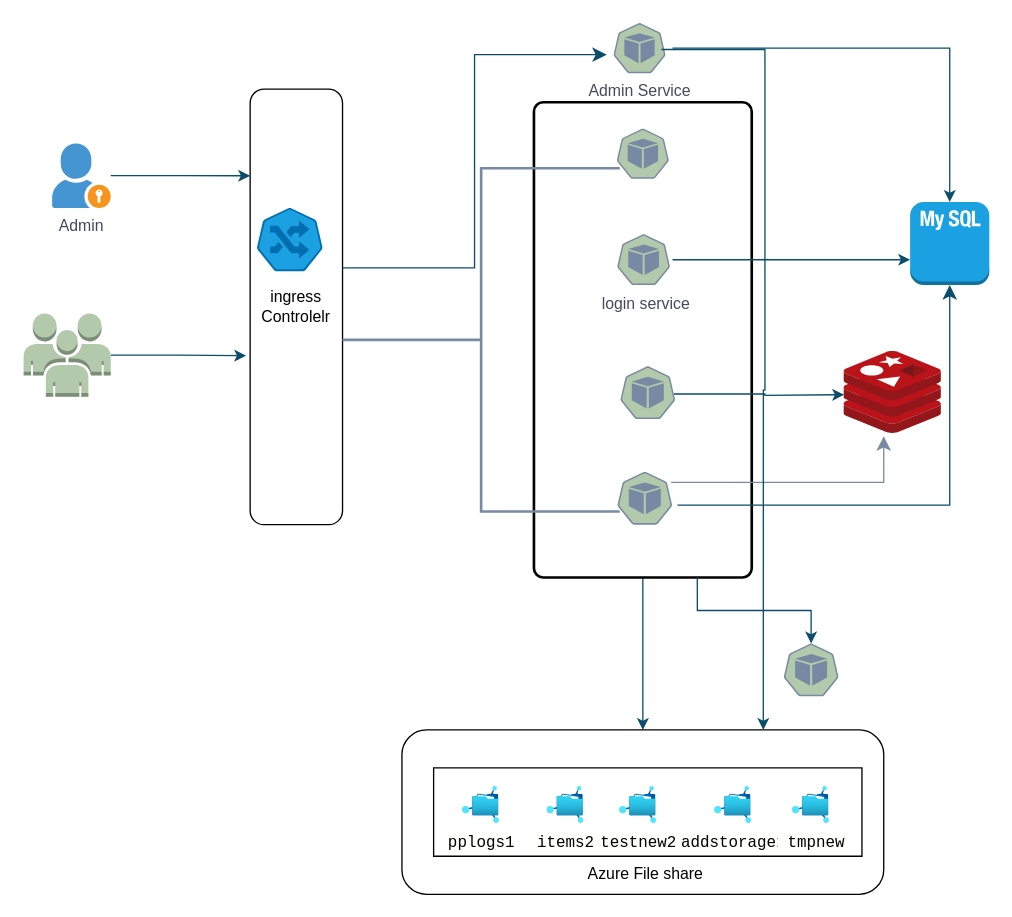
This 1012x917 diagram has some shape labels left out. Each missing label, with the box of its shape:
assess service: (609, 127, 676, 179)
get service: (610, 471, 678, 525)
move service: (609, 365, 686, 419)
rdf service: (777, 642, 844, 696)
Users: (22, 312, 111, 397)
